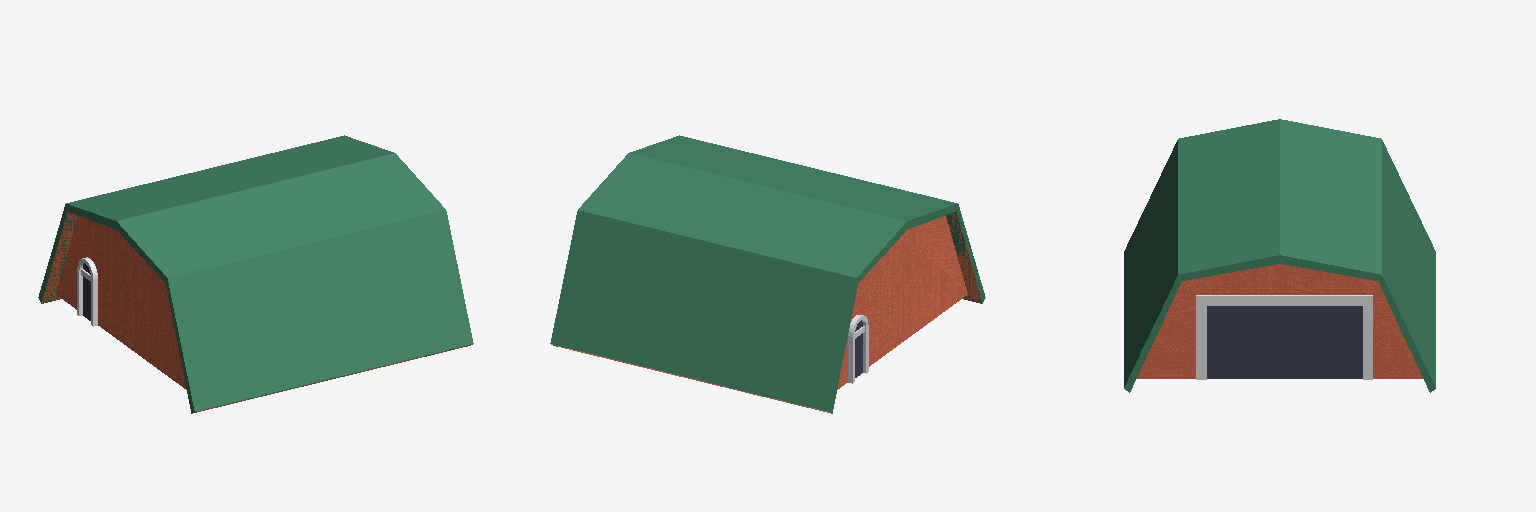
The picture shows the model from 3 angles: view 1: azimuth 30°, elevation 25°; view 2: azimuth 150°, elevation 25°; view 3: azimuth 270°, elevation 25°; orthographic projection.
Visible parts, largest first — view 1: roof_barn_1, roof_barn_2, door_rounded_4; view 2: roof_barn_2, roof_barn_1, door_rounded_4; view 3: roof_barn_1, roof_barn_2, garage_wide_3.
Part boxes in pixels (bbox=[...]): roof_barn_1: bbox=[117, 153, 473, 413]; roof_barn_2: bbox=[38, 135, 393, 347]; door_rounded_4: bbox=[77, 257, 97, 326]; roof_barn_2: bbox=[550, 153, 906, 413]; roof_barn_1: bbox=[630, 135, 985, 347]; door_rounded_4: bbox=[848, 315, 868, 383]; roof_barn_1: bbox=[1124, 119, 1279, 392]; roof_barn_2: bbox=[1280, 119, 1435, 392]; garage_wide_3: bbox=[1196, 295, 1372, 379].
Size of the model in its own units: 3.3 by 1.56 by 3.2.